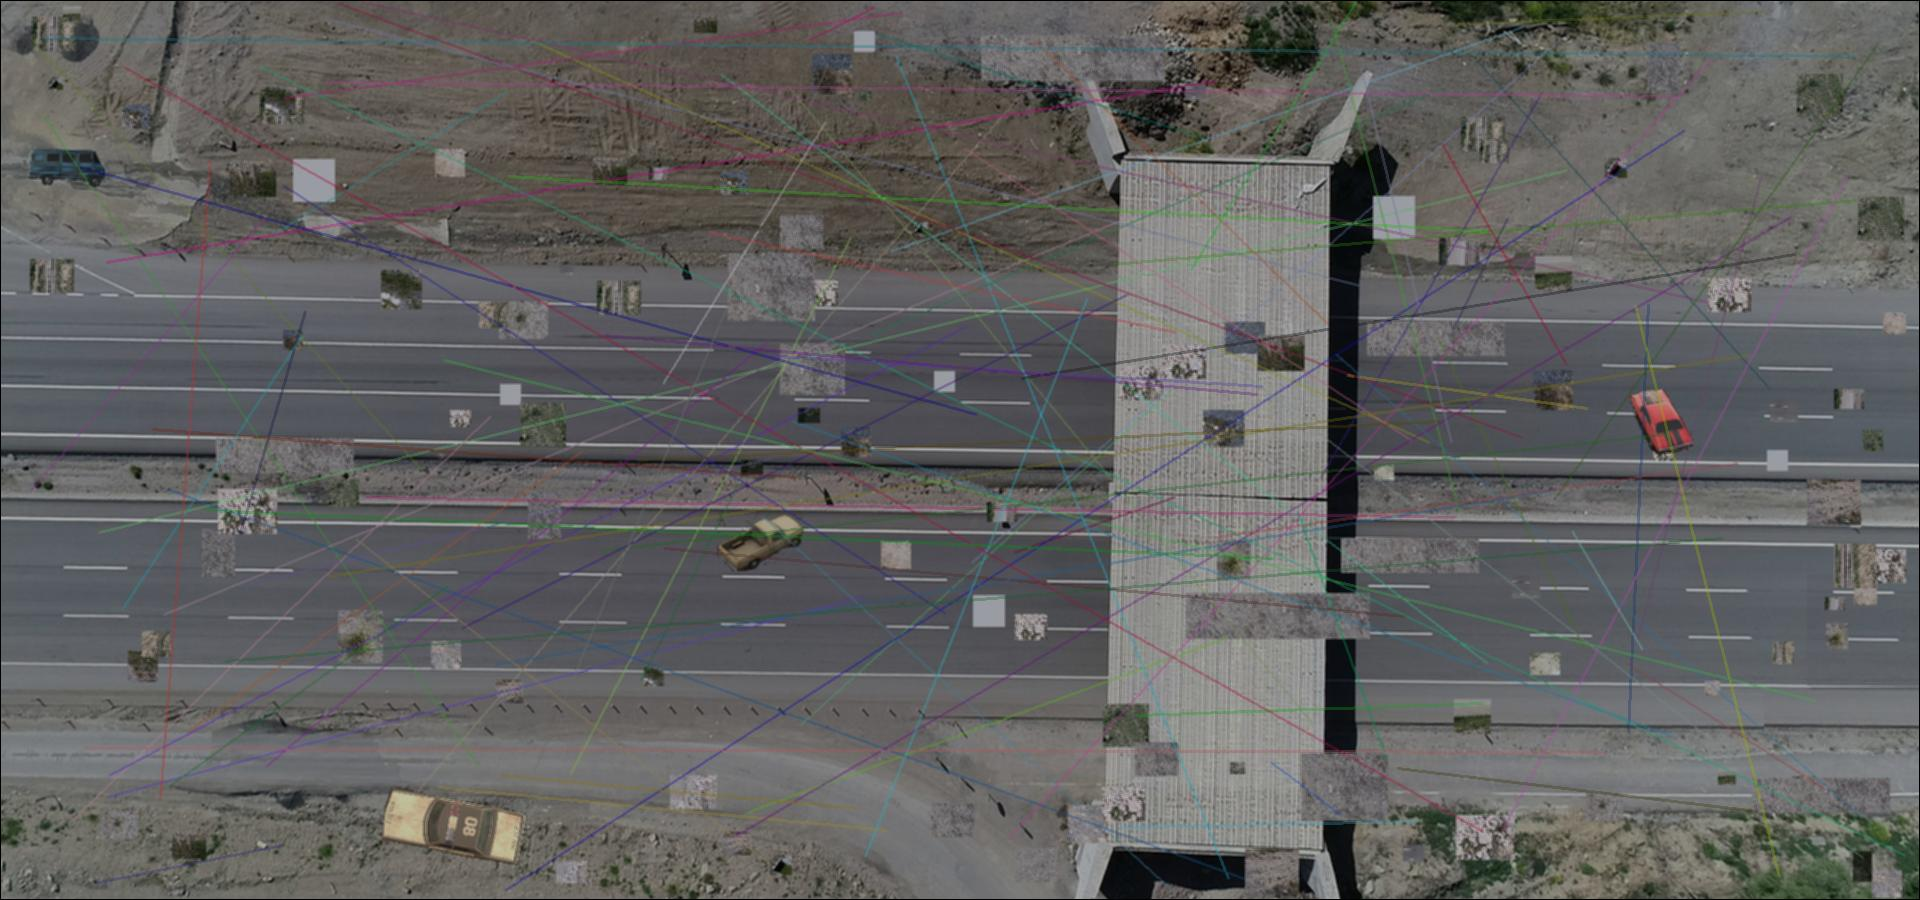arac: (382, 785, 527, 864), (718, 509, 804, 571), (1625, 386, 1695, 456), (28, 148, 107, 189)
